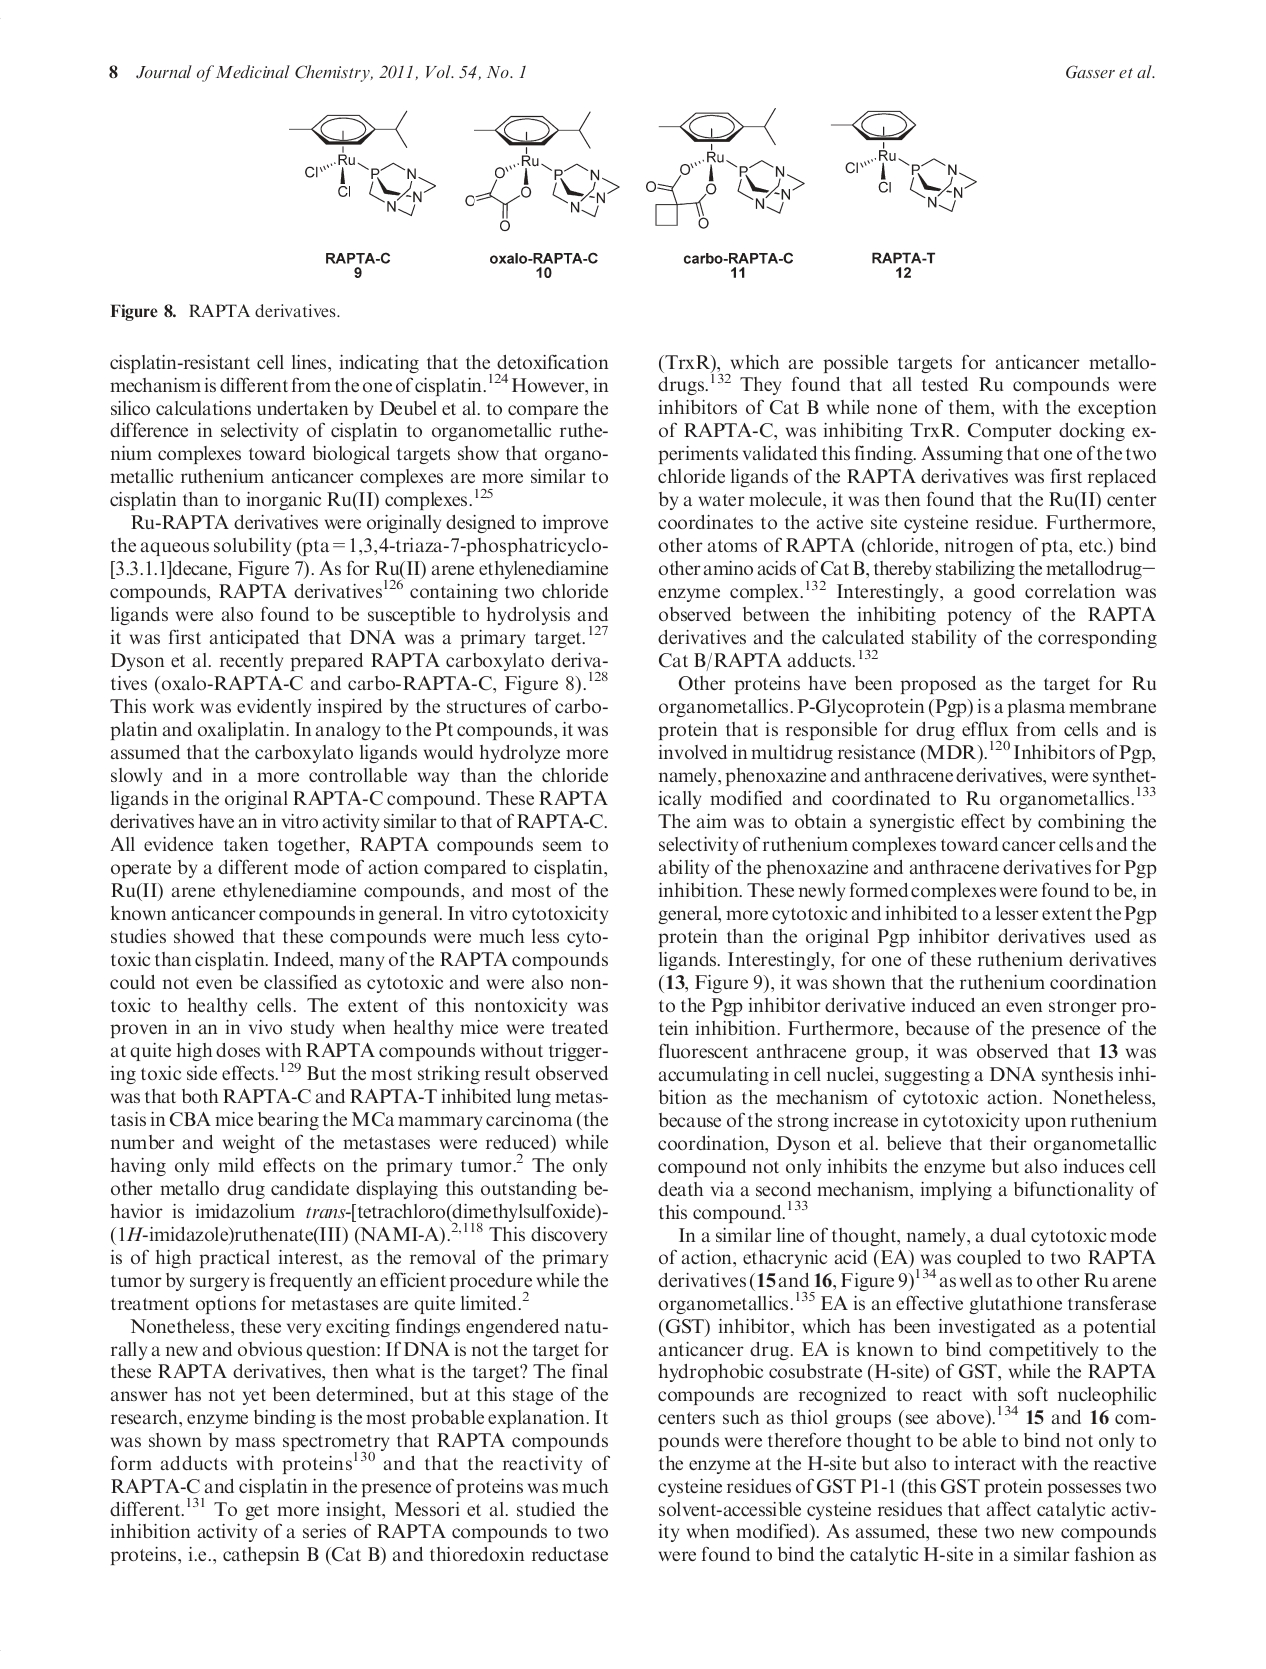exist_molecular: (644, 102, 809, 229), (461, 109, 625, 234), (287, 106, 442, 219), (828, 106, 983, 217)
